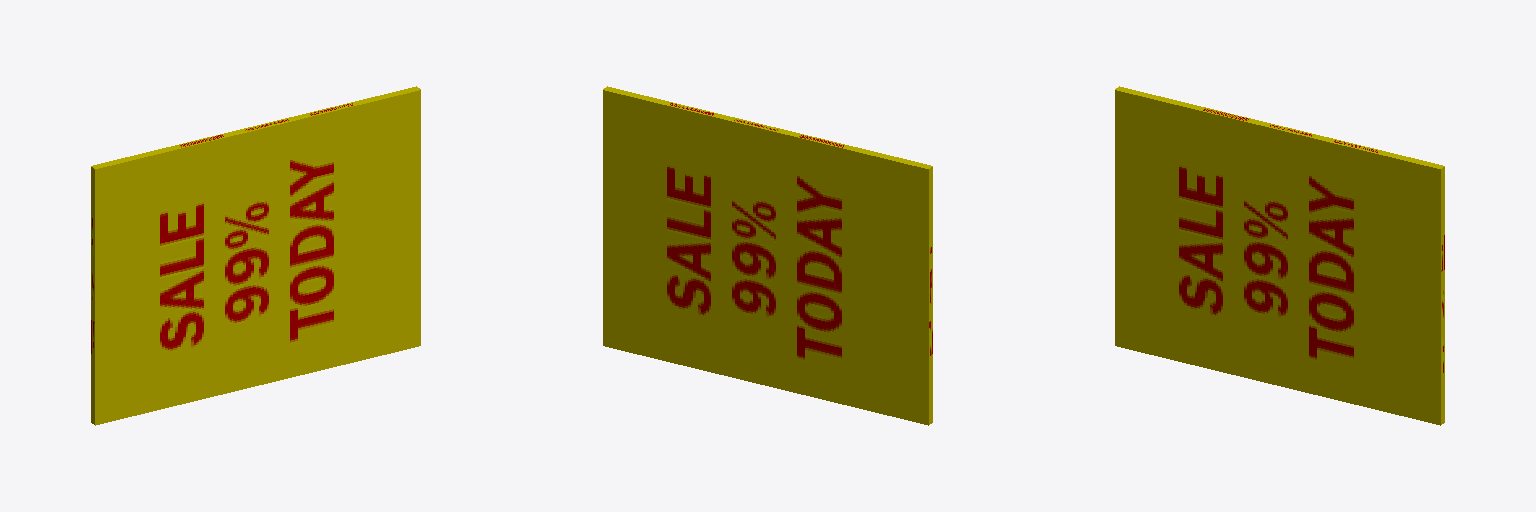
The picture shows the model from 3 angles: view 1: azimuth 30°, elevation 25°; view 2: azimuth 150°, elevation 25°; view 3: azimuth 330°, elevation 25°; orthographic projection.
Visible parts, largest first — view 1: Box001; view 2: Box001; view 3: Box001.
Part boxes in pixels (x1,y1,x2,y2): Box001: (91,86,420,425); Box001: (603,86,932,425); Box001: (1115,86,1444,425).
Size of the model in its own units: 0.04 by 0.03 by 0.001.
Materials: 1 (1 with a texture image).